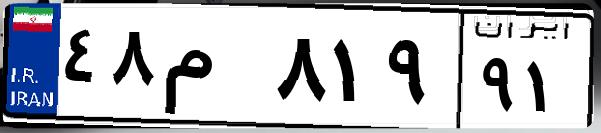1: (330, 28, 385, 110), (525, 38, 570, 115)
4: (57, 26, 110, 100)
8: (270, 28, 330, 110), (110, 28, 158, 98)
9: (385, 28, 445, 110), (475, 38, 525, 113)
م: (158, 20, 270, 120)
